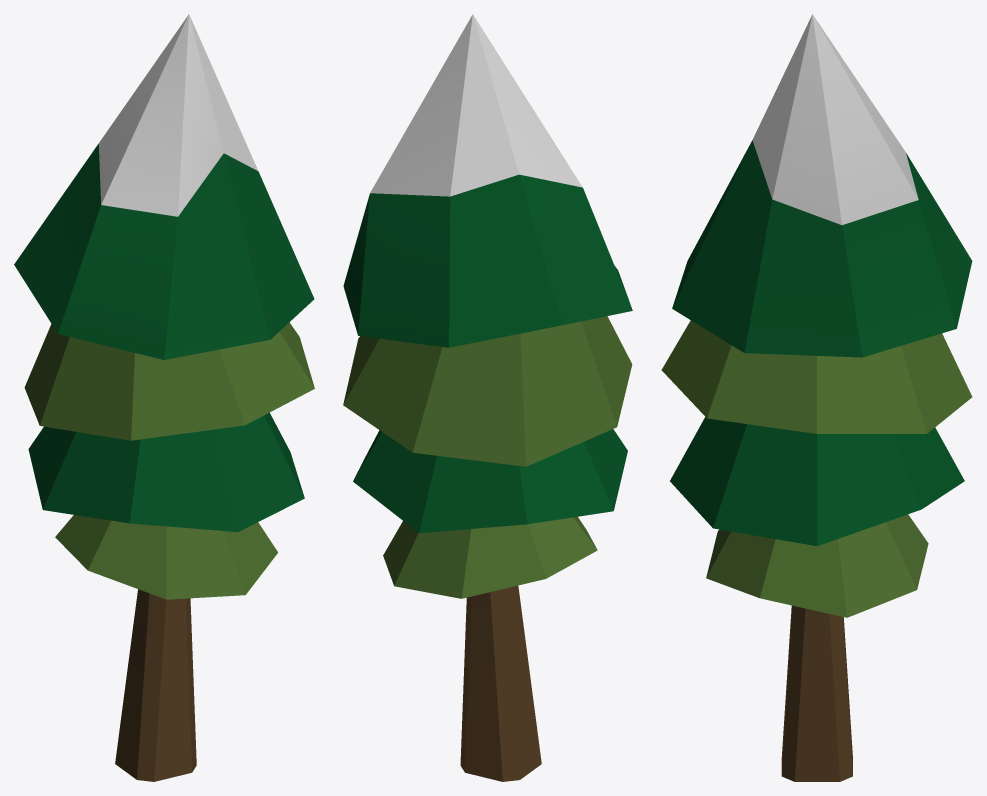
The model's file is Snow_Terrain_Tree.fbx.
The picture shows the model from 3 angles, left to right: view 1: azimuth 30°, elevation 25°; view 2: azimuth 150°, elevation 25°; view 3: azimuth 270°, elevation 25°; orthographic projection. The views are drawn at different scales.
Visible parts, largest first — view 1: pCone8; view 2: pCone8; view 3: pCone8.
Boxes of the visible parts, x1,y1,x2,y2 form: pCone8: (14, 14, 314, 781); pCone8: (343, 14, 632, 781); pCone8: (661, 14, 972, 781).
Size of the model in its own units: 8.33 by 22.81 by 8.37.
